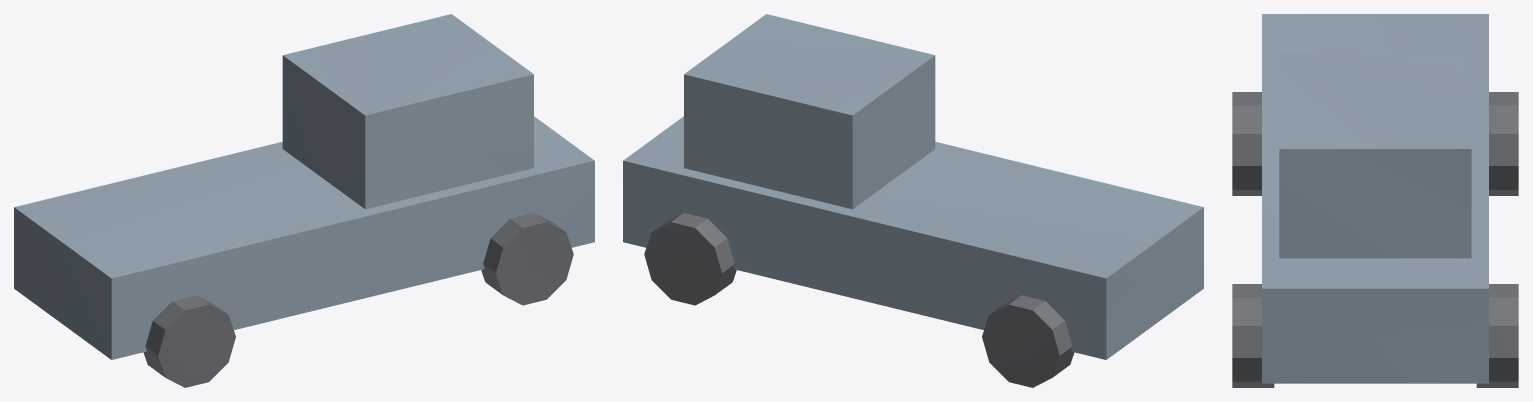
Rendered from road_vehicle-03.glb.
The picture shows the model from 3 angles, left to right: view 1: azimuth 30°, elevation 25°; view 2: azimuth 150°, elevation 25°; view 3: azimuth 270°, elevation 25°; orthographic projection. The views are drawn at different scales.
Parts seen in each view (by area): view 1: world; view 2: world; view 3: world.
Boxes of the visible parts, <box> form: world: <box>14,14,594,387</box>; world: <box>623,14,1203,387</box>; world: <box>1232,14,1518,387</box>.
Bounding box in the file's own units: 1.86 × 0.7677 × 0.82.
